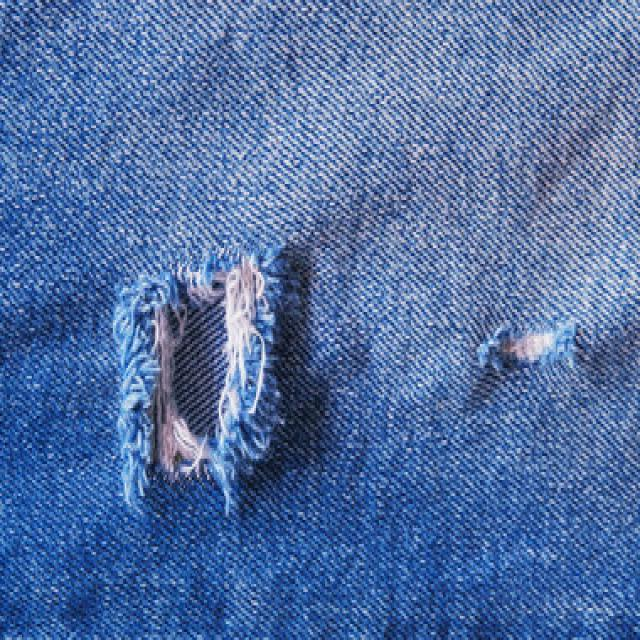Hole: (112, 252, 288, 514), (464, 318, 576, 414)
